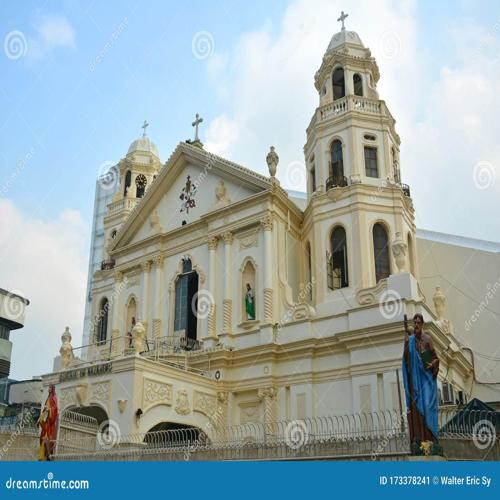Quiapo Church: (38, 9, 464, 433)
